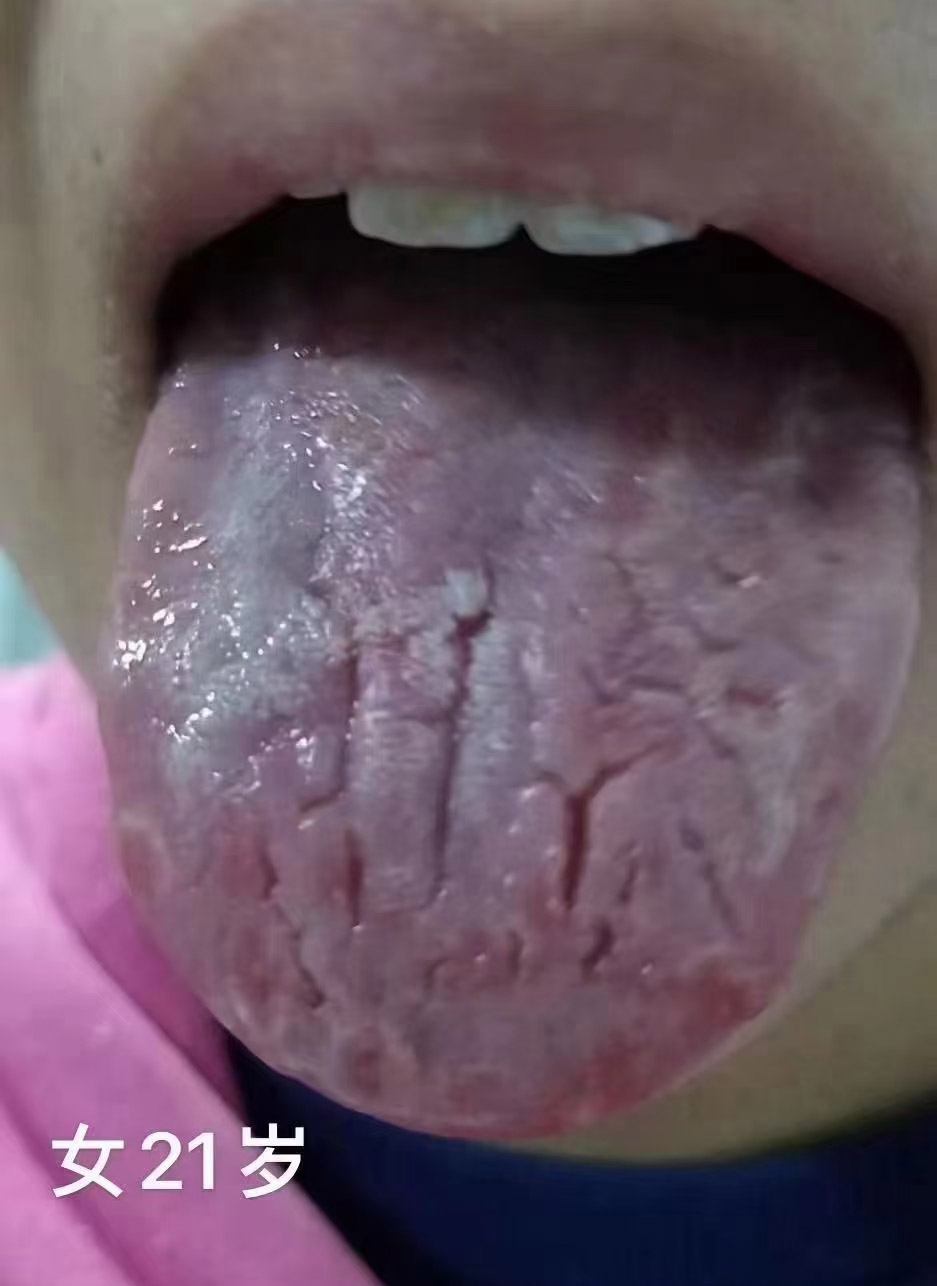baitaishe: (100, 258, 918, 1138)
botaishe: (511, 941, 782, 1131)
hongshe: (100, 258, 918, 1138)
liewenshe: (296, 558, 646, 975)
